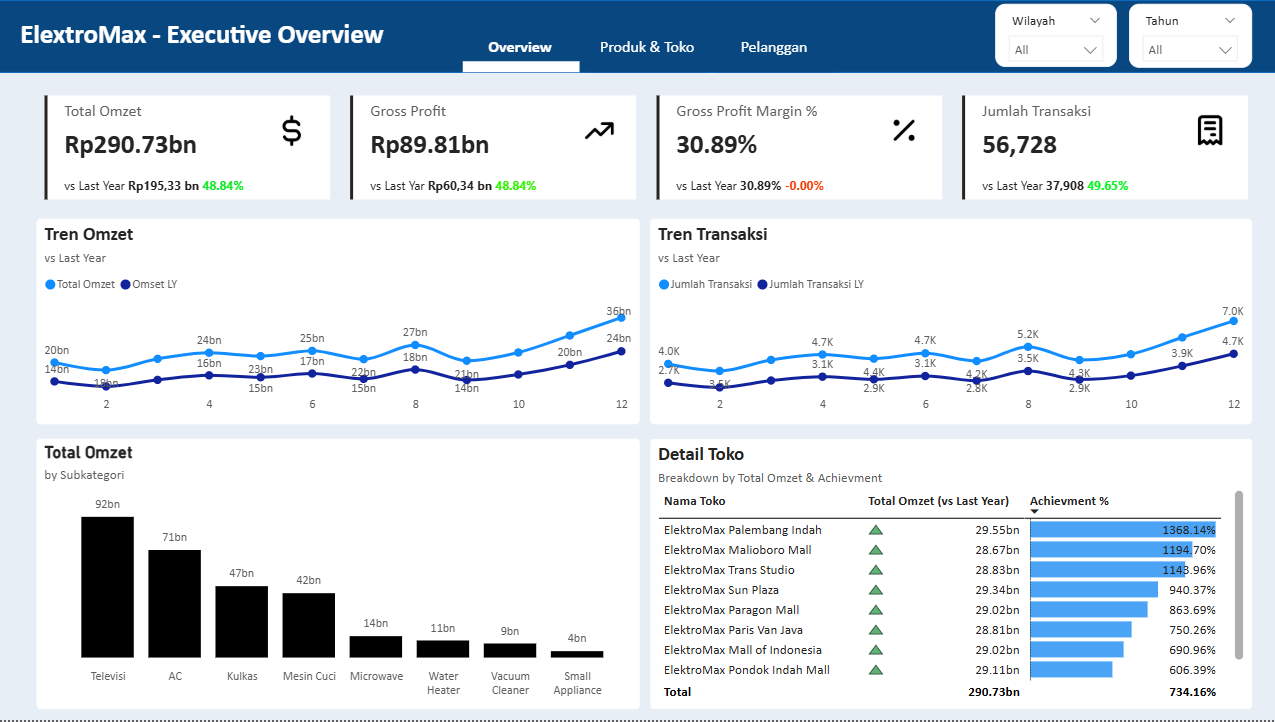

Layout of this report page (visuals, bound fields, positions):
{"tool":"powerbi","page":{"name":"Overview","canvas":[1280,720],"ordinal":0},"visuals":[{"type":"actionButton","box":[0,0,100,40],"z":0},{"type":"lineChart","title":"Tren Omzet","fields":{"Category":["DIM_WAKTU.tahun Hierarki.nomor_bulan"],"Y":["_MEASURE.Total Omzet","_MEASURE.Omset LY"]},"box":[37.1,218.6,602.9,205.7],"z":1000},{"type":"columnChart","title":"Total Omzet","fields":{"Category":["DIM_PRODUK.subkategori"],"Y":["_MEASURE.Total Omzet"]},"box":[37.1,438.6,602.9,270],"z":2000},{"type":"shape","box":[0,0,1280,72.9],"z":3000},{"type":"slicer","fields":{"Values":["DIM_TOKO.wilayah"]},"box":[995.7,4.3,121.4,62.9],"z":4000},{"type":"slicer","fields":{"Values":["DIM_WAKTU.tahun"]},"box":[1130,4.3,122.9,64.3],"z":5000},{"type":"textbox","box":[15.7,12.9,382.9,48.6],"z":6000},{"type":"cardVisual","fields":{"Data":["_MEASURE.Total Omzet","_MEASURE.Gross Profit","_MEASURE.GPM %","_MEASURE.Jumlah Transaksi"]},"box":[37.1,87.1,1221.4,120],"z":7000},{"type":"tableEx","title":"Detail Toko","fields":{"Values":["DIM_TOKO.nama_toko","_MEASURE.Total Omzet","_MEASURE.Achievment %"]},"box":[651.4,438.6,601.4,270],"z":8000},{"type":"lineChart","title":"Tren Transaksi","fields":{"Category":["DIM_WAKTU.tahun Hierarki.nomor_bulan"],"Y":["_MEASURE.Jumlah Transaksi","_MEASURE.Jumlah Transaksi LY"]},"box":[651.4,218.6,601.4,205.7],"z":9000},{"type":"pageNavigator","box":[462.9,24.3,372.9,44.3],"z":10000,"group":"g1"},{"type":"pageNavigator","box":[464.3,61.4,372.9,11.4],"z":11000,"group":"g1"},{"type":"group","id":"g1","title":"Page Navigator","box":[462.9,24.3,374.3,48.6],"z":11001}]}

Visuals, with their boxes in screenshot pixels (x1, y1, x2, y2), scaled from the page's 1280x720 canvas onto the 1275x722 screenshot:
actionButton: [x1=0, y1=0, x2=100, y2=40]
"Tren Omzet" lineChart: [x1=37, y1=219, x2=638, y2=425]
"Total Omzet" columnChart: [x1=37, y1=440, x2=638, y2=711]
shape: [x1=0, y1=0, x2=1274, y2=73]
slicer - DIM_TOKO.wilayah: [x1=992, y1=4, x2=1113, y2=67]
slicer - DIM_WAKTU.tahun: [x1=1126, y1=4, x2=1248, y2=69]
textbox: [x1=16, y1=13, x2=397, y2=62]
cardVisual - _MEASURE.Total Omzet x _MEASURE.Gross Profit: [x1=37, y1=87, x2=1254, y2=208]
"Detail Toko" tableEx: [x1=649, y1=440, x2=1248, y2=711]
"Tren Transaksi" lineChart: [x1=649, y1=219, x2=1248, y2=425]
pageNavigator: [x1=461, y1=24, x2=833, y2=69]
pageNavigator: [x1=462, y1=62, x2=834, y2=73]
"Page Navigator" group: [x1=461, y1=24, x2=834, y2=73]
